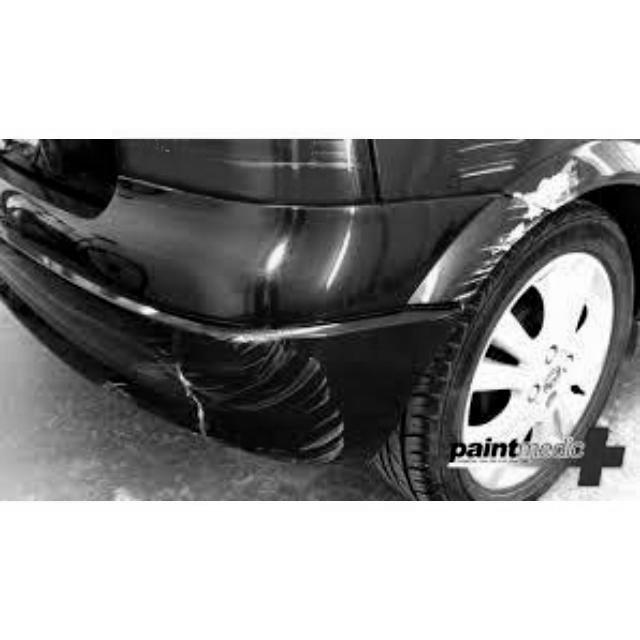quaterpanel-dent: (400, 140, 638, 243)
rear-bumper-dent: (43, 287, 425, 463)
